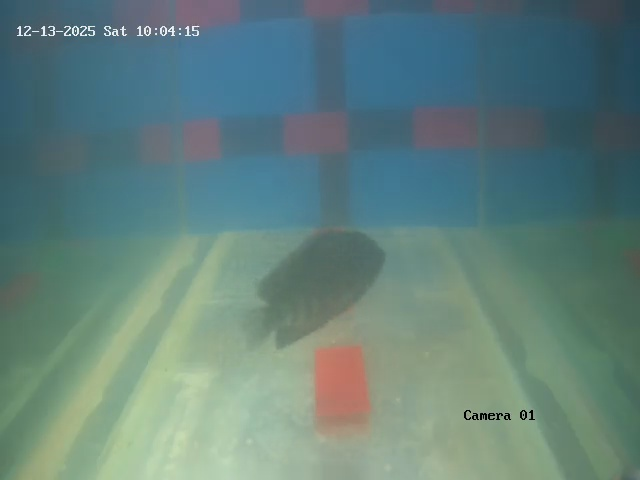fish: (256, 204, 386, 361)
